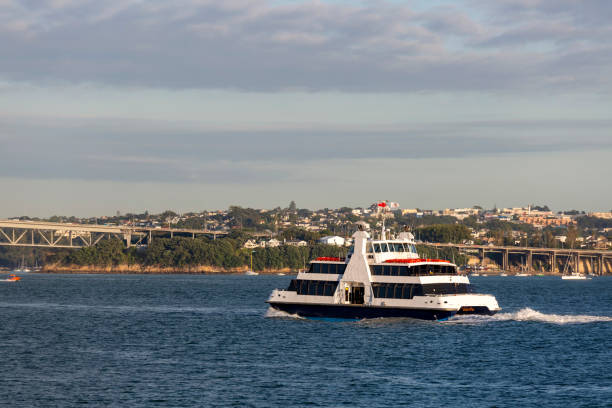ferry: (265, 231, 503, 320)
